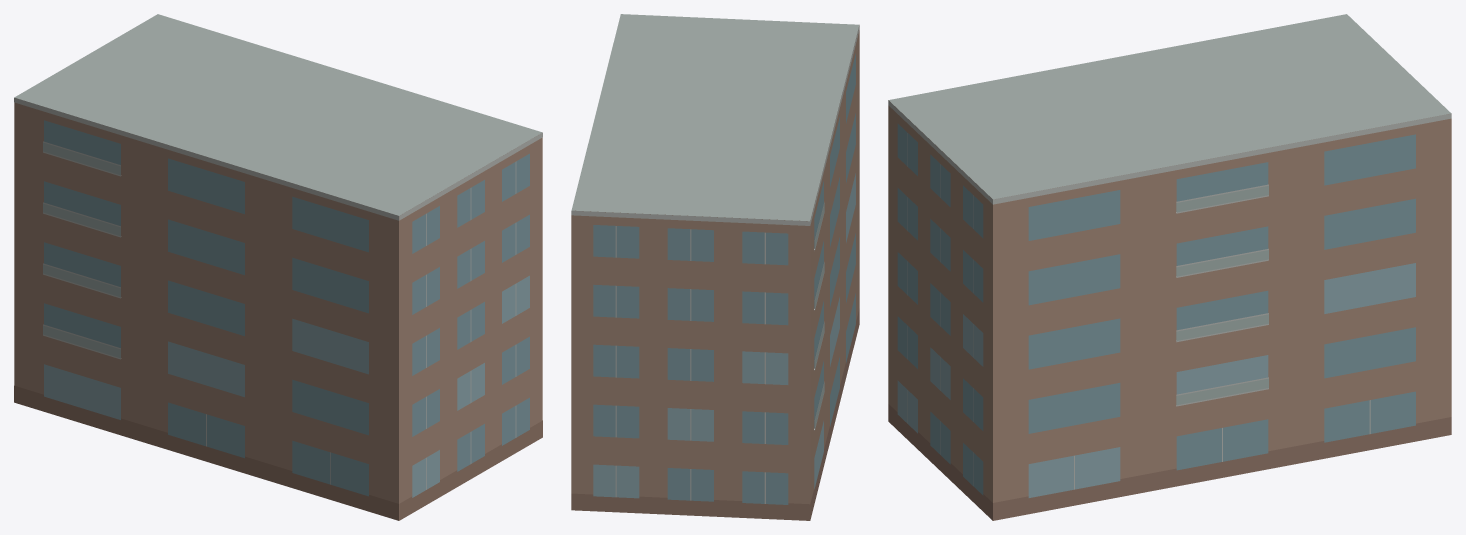
The model's file is residential-c47c11c9-6d2a-445c-b331-df2a40636642.glb.
3 views of the same model, side by side, from view 1: azimuth 30°, elevation 25°; view 2: azimuth 150°, elevation 25°; view 3: azimuth 270°, elevation 25° (orthographic). The views are drawn at different scales.
Parts seen in each view (by area): view 1: residential-c47c11c9-6d2a-445c-b331-df2a40636642.tmp; view 2: residential-c47c11c9-6d2a-445c-b331-df2a40636642.tmp; view 3: residential-c47c11c9-6d2a-445c-b331-df2a40636642.tmp.
Boxes of the visible parts, x1,y1,x2,y2 form: residential-c47c11c9-6d2a-445c-b331-df2a40636642.tmp: (14,14,542,520); residential-c47c11c9-6d2a-445c-b331-df2a40636642.tmp: (571,14,859,520); residential-c47c11c9-6d2a-445c-b331-df2a40636642.tmp: (888,14,1451,520).
Size of the model in its own units: 18.88 by 15.25 by 24.22.
